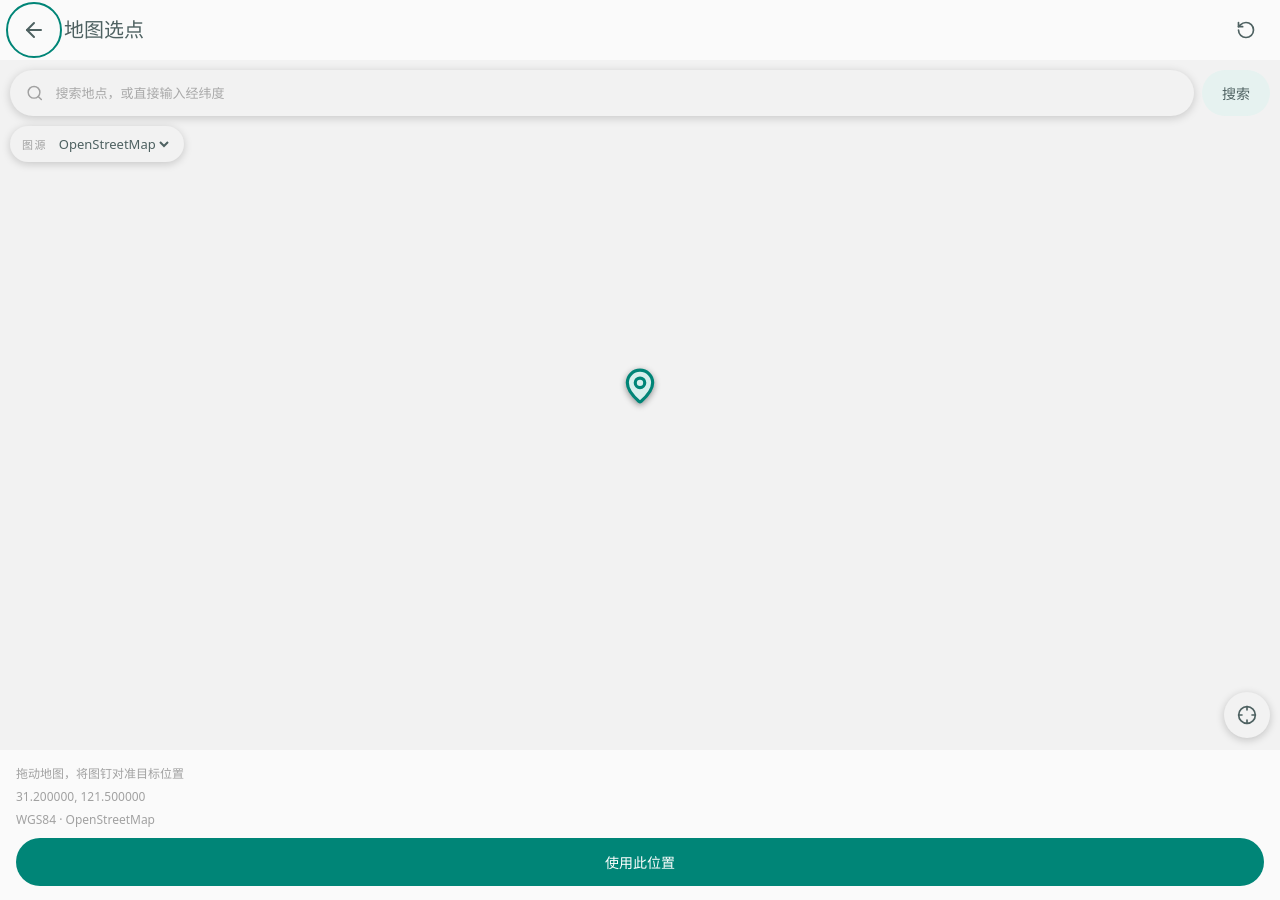
Test: centers on a search result so the coordinates come from the selected place
Step 1. Type "上海火车站" into the field labelled "搜索地点" → (617, 93), box top-left (56, 72), bottom-right (1178, 114)
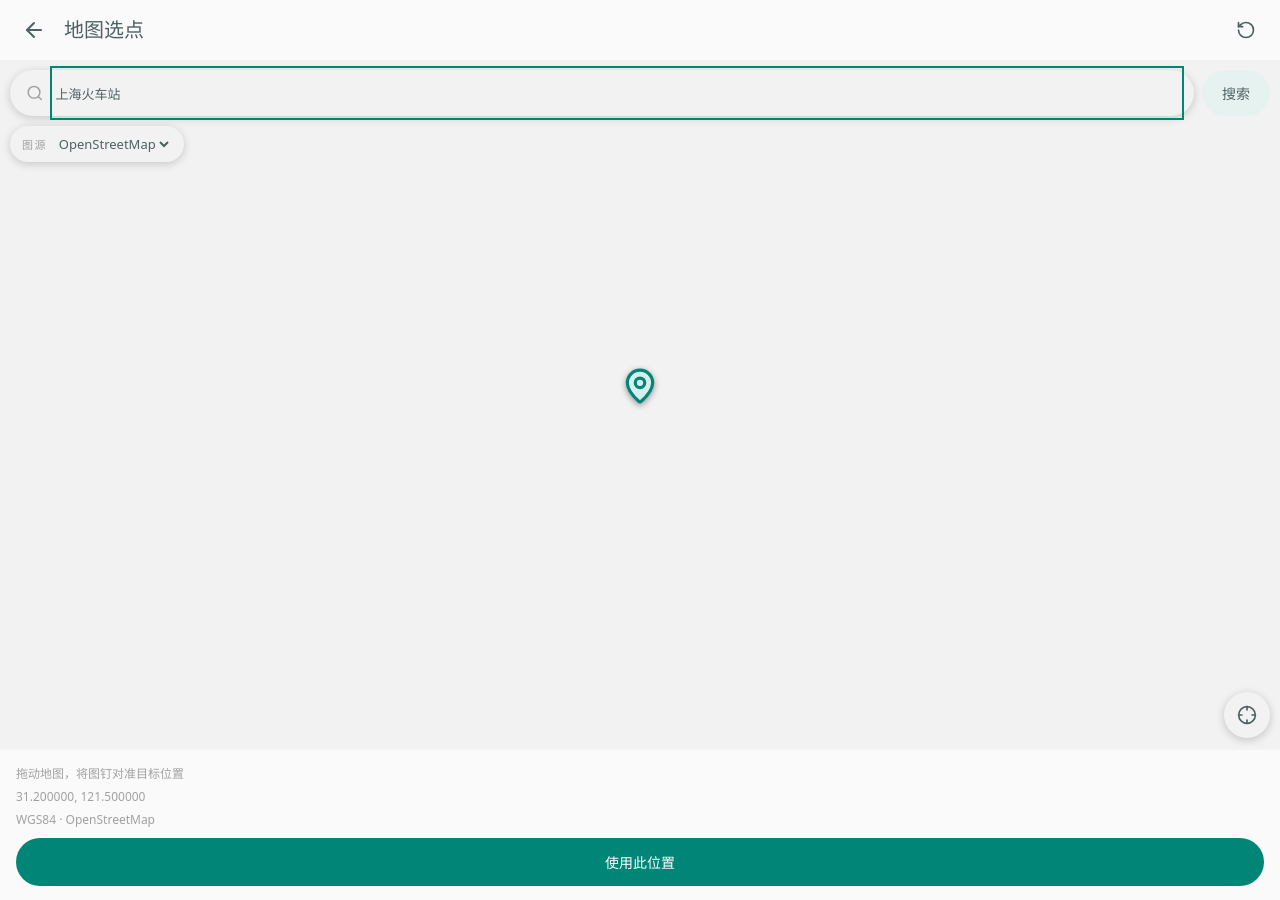
Step 2. Click the button "搜索" → click(1236, 93), box top-left (1202, 70), bottom-right (1270, 116)
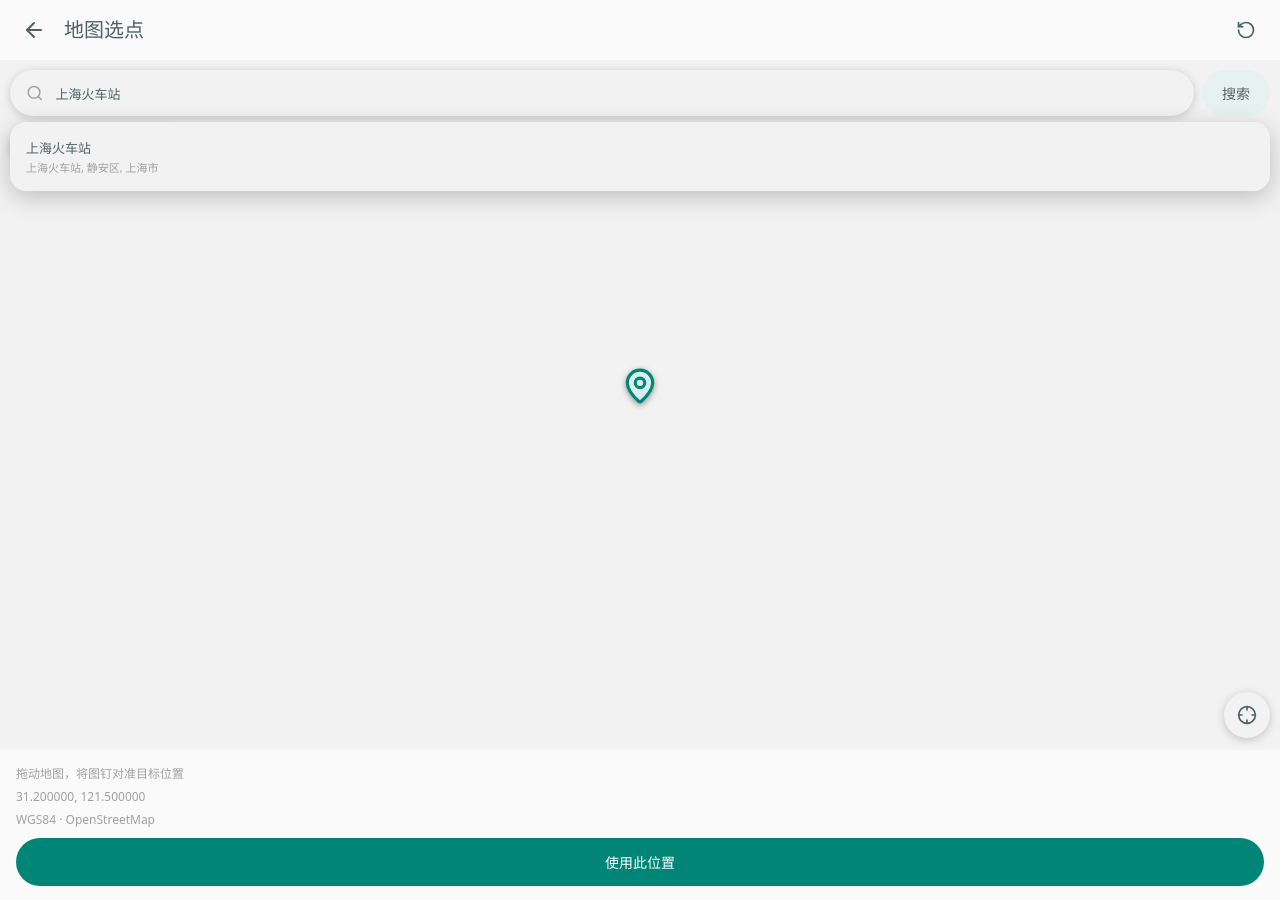
Expected: the text "上海火车站" is shown, top-left (26, 139), bottom-right (91, 157)
Step 3. Click the list item → click(59, 148), box top-left (14, 126), bottom-right (1266, 187)
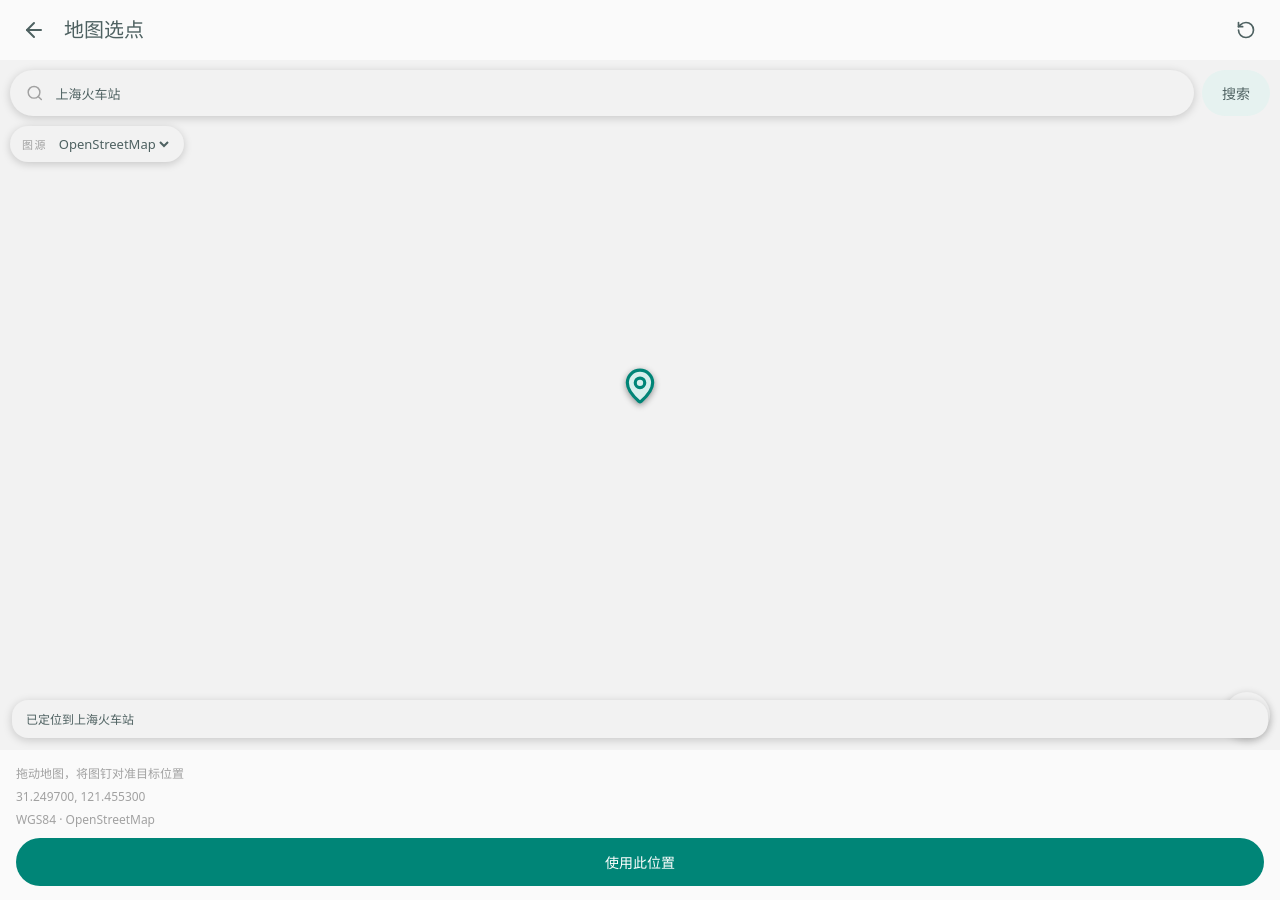
Expected: the text named "所选坐标" reads "31.249700, 121.455300", top-left (16, 788), bottom-right (146, 805)
